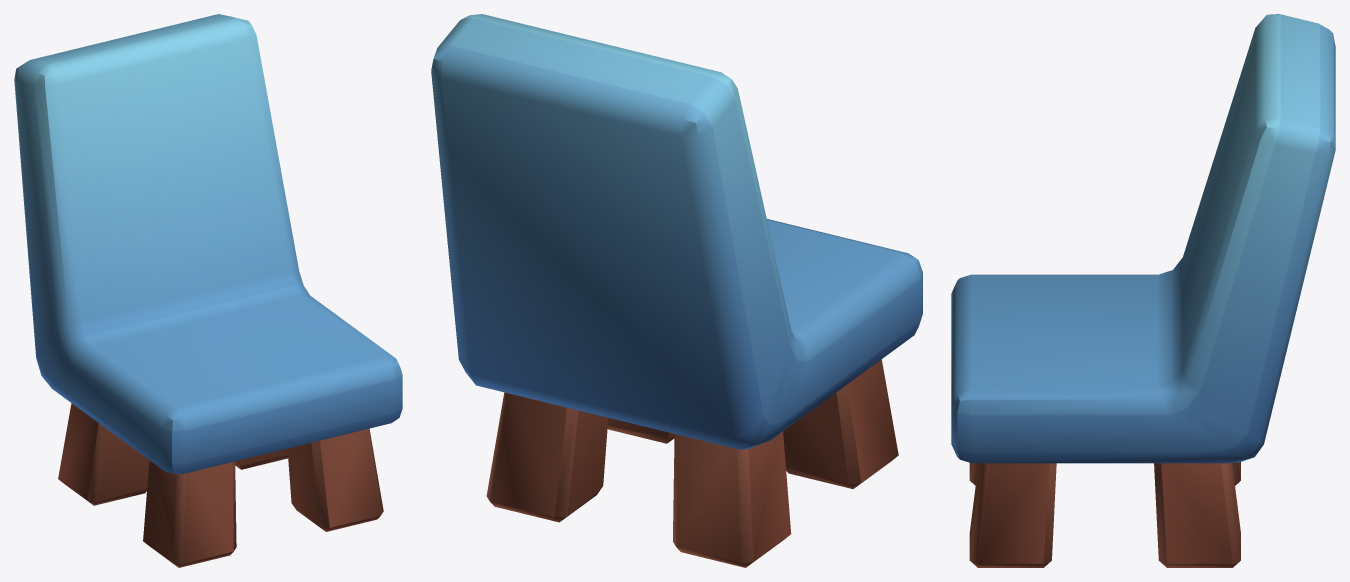
Rendered from chair_C.obj.
The picture shows the model from 3 angles, left to right: view 1: azimuth 30°, elevation 25°; view 2: azimuth 150°, elevation 25°; view 3: azimuth 270°, elevation 25°; orthographic projection. The views are drawn at different scales.
Parts seen in each view (by area): view 1: chair_C_Cube.031; view 2: chair_C_Cube.031; view 3: chair_C_Cube.031.
Part boxes in pixels (left/top/right/bottom): chair_C_Cube.031: left=14, top=14, right=402, bottom=567; chair_C_Cube.031: left=431, top=14, right=922, bottom=567; chair_C_Cube.031: left=951, top=14, right=1335, bottom=567.
Bounding box in the file's own units: 0.75 × 1.2 × 0.9356.
1 material, 1 textured.
